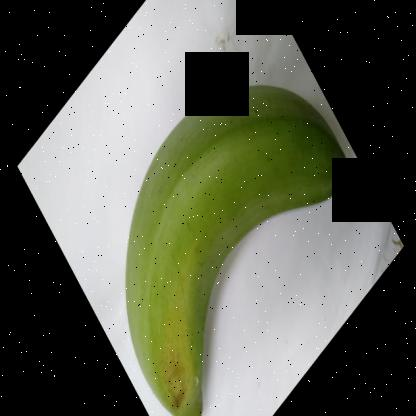freshunripe: (121, 68, 360, 416)
